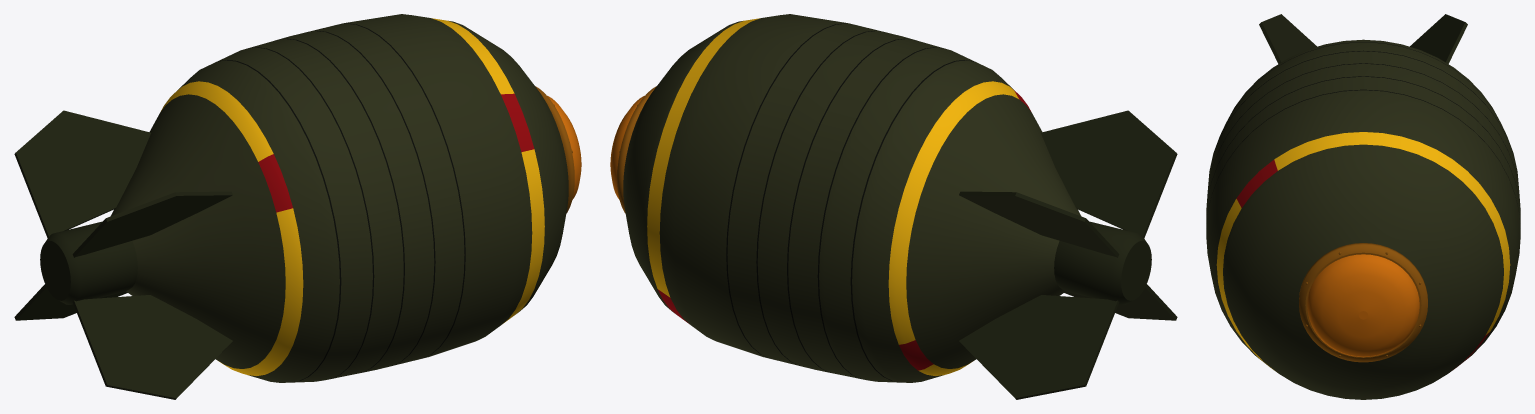
Rendered from Heavy_Bomb_Reference_05.obj.
3 renders of one model, left to right at view 1: azimuth 30°, elevation 25°; view 2: azimuth 150°, elevation 25°; view 3: azimuth 270°, elevation 25°, orthographic. The views are drawn at different scales.
Visible parts, largest first — view 1: Bomb_Barrel_And_Tapered_Rear, Bomb_Exposed_TailFin_2, Bomb_Exposed_TailFin_0, Bomb_TailHub, Bomb_Exposed_TailFin_1, Bomb_Exposed_TailFin_3, Bomb_Yellow_Nose_Rim, Bomb_Yellow_Rounded_Nose; view 2: Bomb_Barrel_And_Tapered_Rear, Bomb_Exposed_TailFin_3, Bomb_Exposed_TailFin_1, Bomb_TailHub, Bomb_Exposed_TailFin_0, Bomb_Exposed_TailFin_2, Bomb_Yellow_Nose_Rim, Bomb_Yellow_Rounded_Nose; view 3: Bomb_Barrel_And_Tapered_Rear, Bomb_Yellow_Rounded_Nose, Bomb_Yellow_Nose_Rim, Bomb_Exposed_TailFin_0, Bomb_Exposed_TailFin_1.
Part boxes in pixels (x1,y1,x2,y2): Bomb_Barrel_And_Tapered_Rear: (110,14,568,382); Bomb_Exposed_TailFin_2: (72,295,232,399); Bomb_Exposed_TailFin_0: (14,110,150,238); Bomb_TailHub: (40,221,137,304); Bomb_Exposed_TailFin_1: (72,191,232,257); Bomb_Exposed_TailFin_3: (14,284,127,320); Bomb_Yellow_Nose_Rim: (535,86,574,213); Bomb_Yellow_Rounded_Nose: (547,95,581,199); Bomb_Barrel_And_Tapered_Rear: (623,14,1081,382); Bomb_Exposed_TailFin_3: (959,295,1119,399); Bomb_Exposed_TailFin_1: (1041,110,1177,238); Bomb_TailHub: (1054,221,1151,304); Bomb_Exposed_TailFin_0: (959,191,1119,257); Bomb_Exposed_TailFin_2: (1064,284,1177,320); Bomb_Yellow_Nose_Rim: (617,86,656,213); Bomb_Yellow_Rounded_Nose: (610,95,644,199); Bomb_Barrel_And_Tapered_Rear: (1206,39,1520,399); Bomb_Yellow_Rounded_Nose: (1307,254,1419,357); Bomb_Yellow_Nose_Rim: (1299,243,1427,362); Bomb_Exposed_TailFin_0: (1410,14,1467,63); Bomb_Exposed_TailFin_1: (1259,14,1316,63).
Size of the model in its own units: 2.87 by 1.68 by 1.68.
